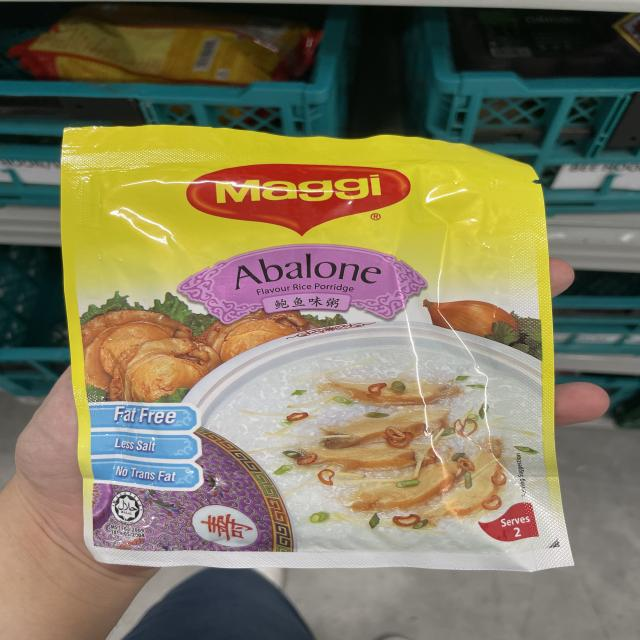object_name: (72, 131, 557, 567)
